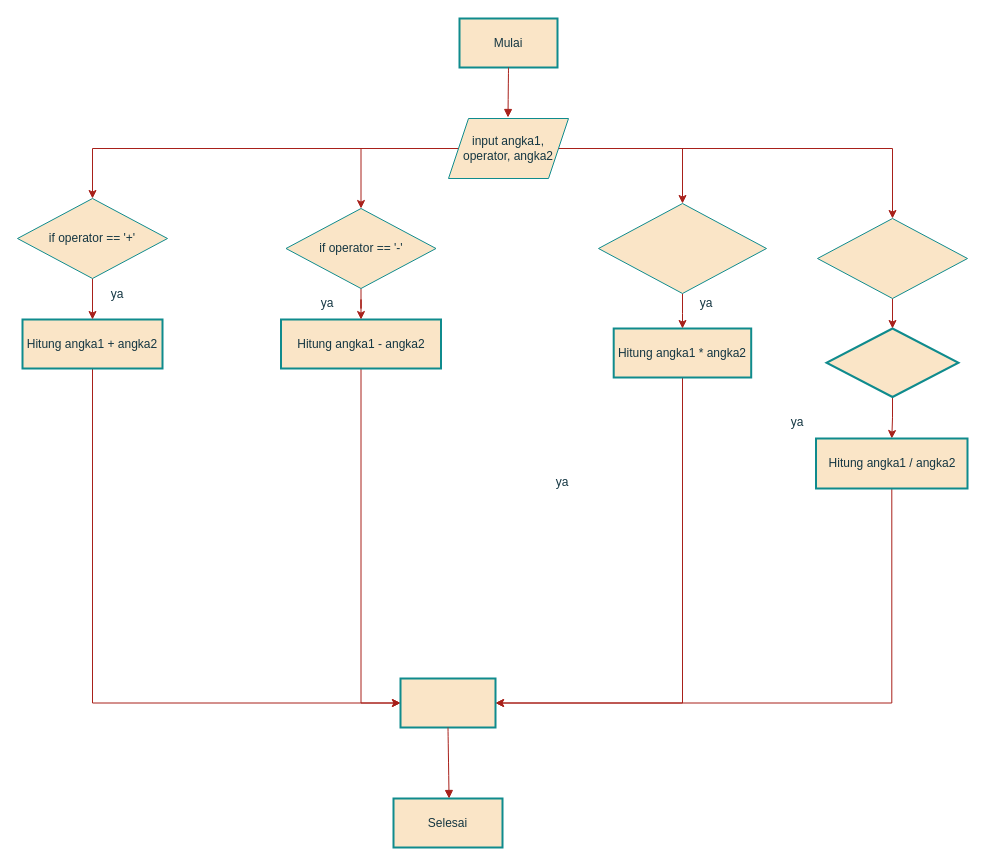
Some shapes in this 986 by 865 pixel diagram are drawn without their labels. Each missing label, with the box of its shape:
Hasil: (399, 677, 496, 728)
if operator == '*': (598, 202, 766, 294)
if operator == '/': (816, 218, 968, 298)
jika angka2 != 0?: (825, 327, 959, 398)
